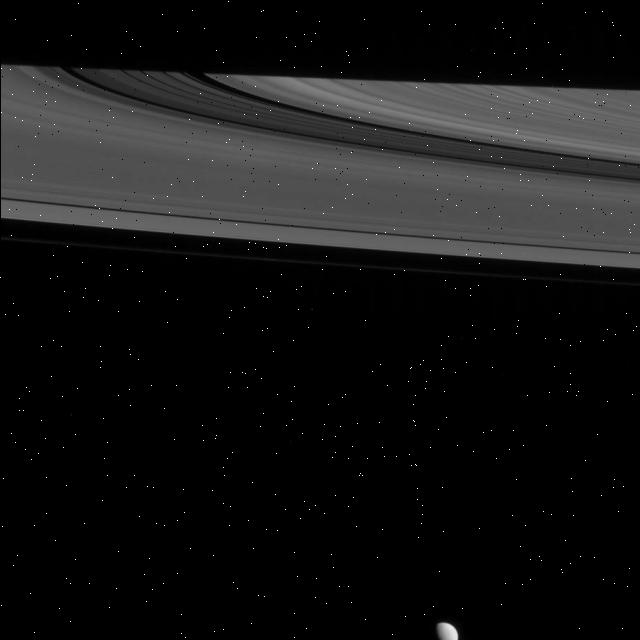Saturn: (0, 58, 640, 286)
